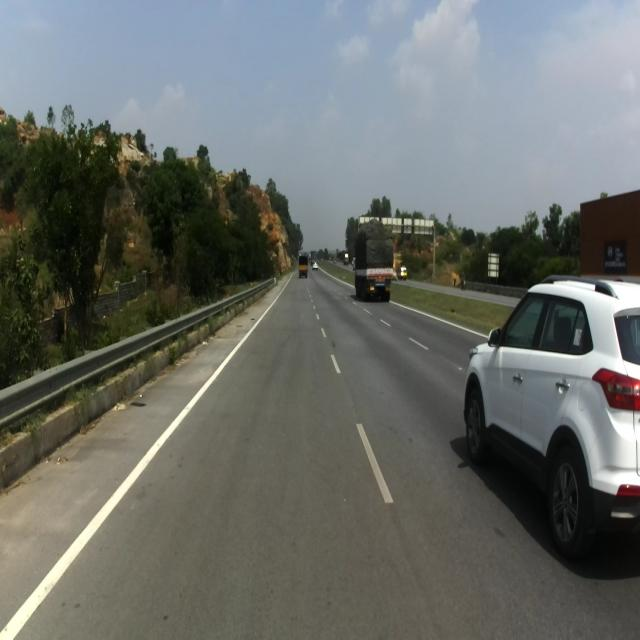Car_Hyundai: (462, 273, 640, 562)
truck: (347, 218, 398, 306)
